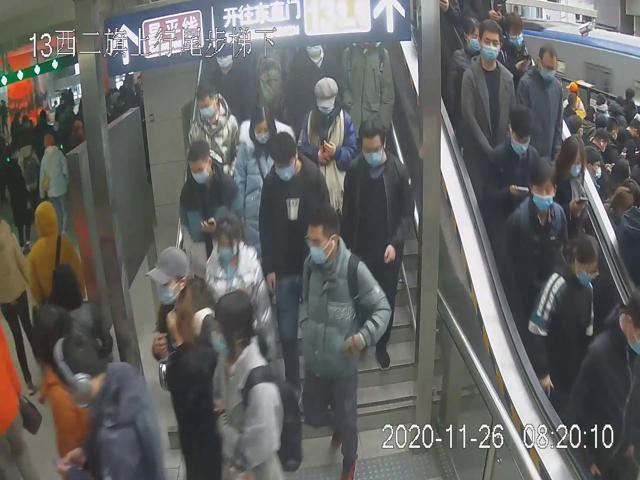person: (298, 204, 393, 479), (340, 116, 414, 368), (204, 291, 281, 480), (258, 132, 330, 324), (205, 207, 279, 372), (530, 230, 601, 399), (499, 156, 566, 311), (296, 73, 356, 226), (459, 20, 514, 168), (178, 141, 240, 266), (482, 106, 540, 216), (516, 40, 564, 170), (189, 80, 238, 176)
